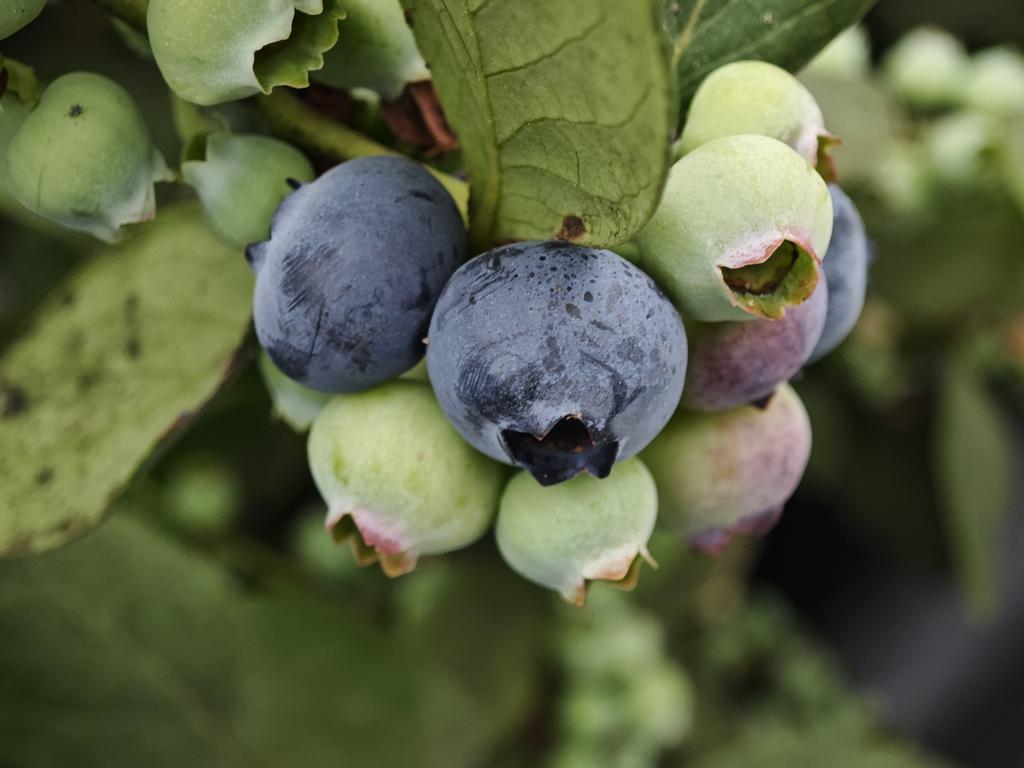RipeBlueBerry: (430, 241, 687, 471), (251, 153, 438, 390)
UnripeBlueBerry: (657, 137, 836, 324)
